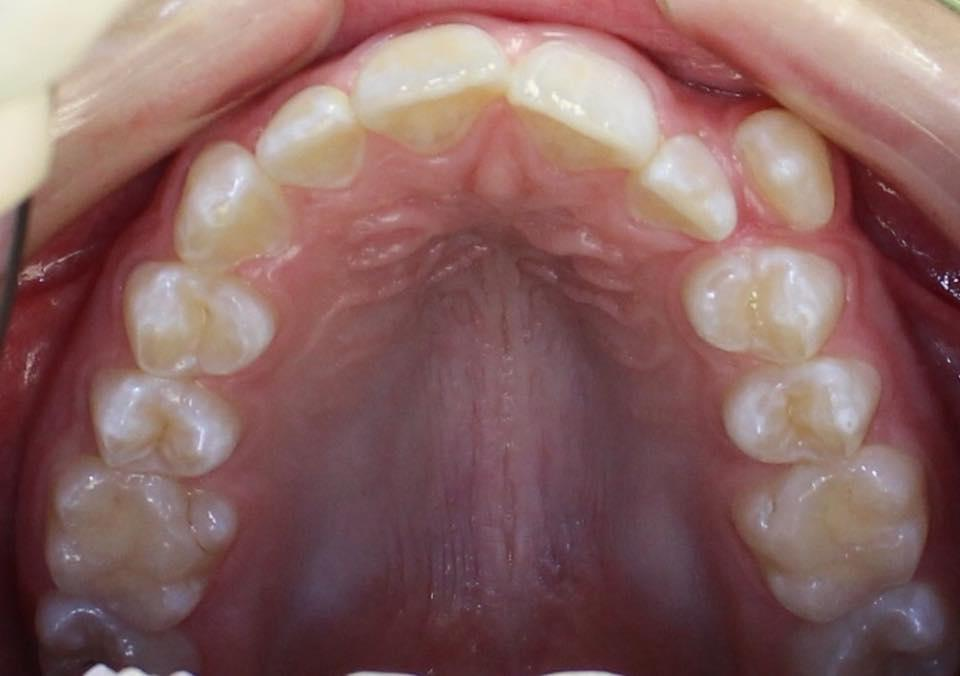UL1BC_healthy: (684, 254, 836, 356)
UL1M_healthy: (736, 458, 925, 625)
UL2BC_healthy: (726, 358, 884, 468)
ULCI_healthy: (504, 52, 650, 174)
ULLI_healthy: (631, 140, 739, 234)
UR1BC_healthy: (117, 260, 278, 379)
UR1M_healthy: (42, 463, 240, 632)
UR2BC_healthy: (74, 371, 240, 477)
URCI_healthy: (354, 20, 503, 151)
URC_healthy: (182, 137, 297, 282)
URLI_healthy: (254, 88, 365, 205)
